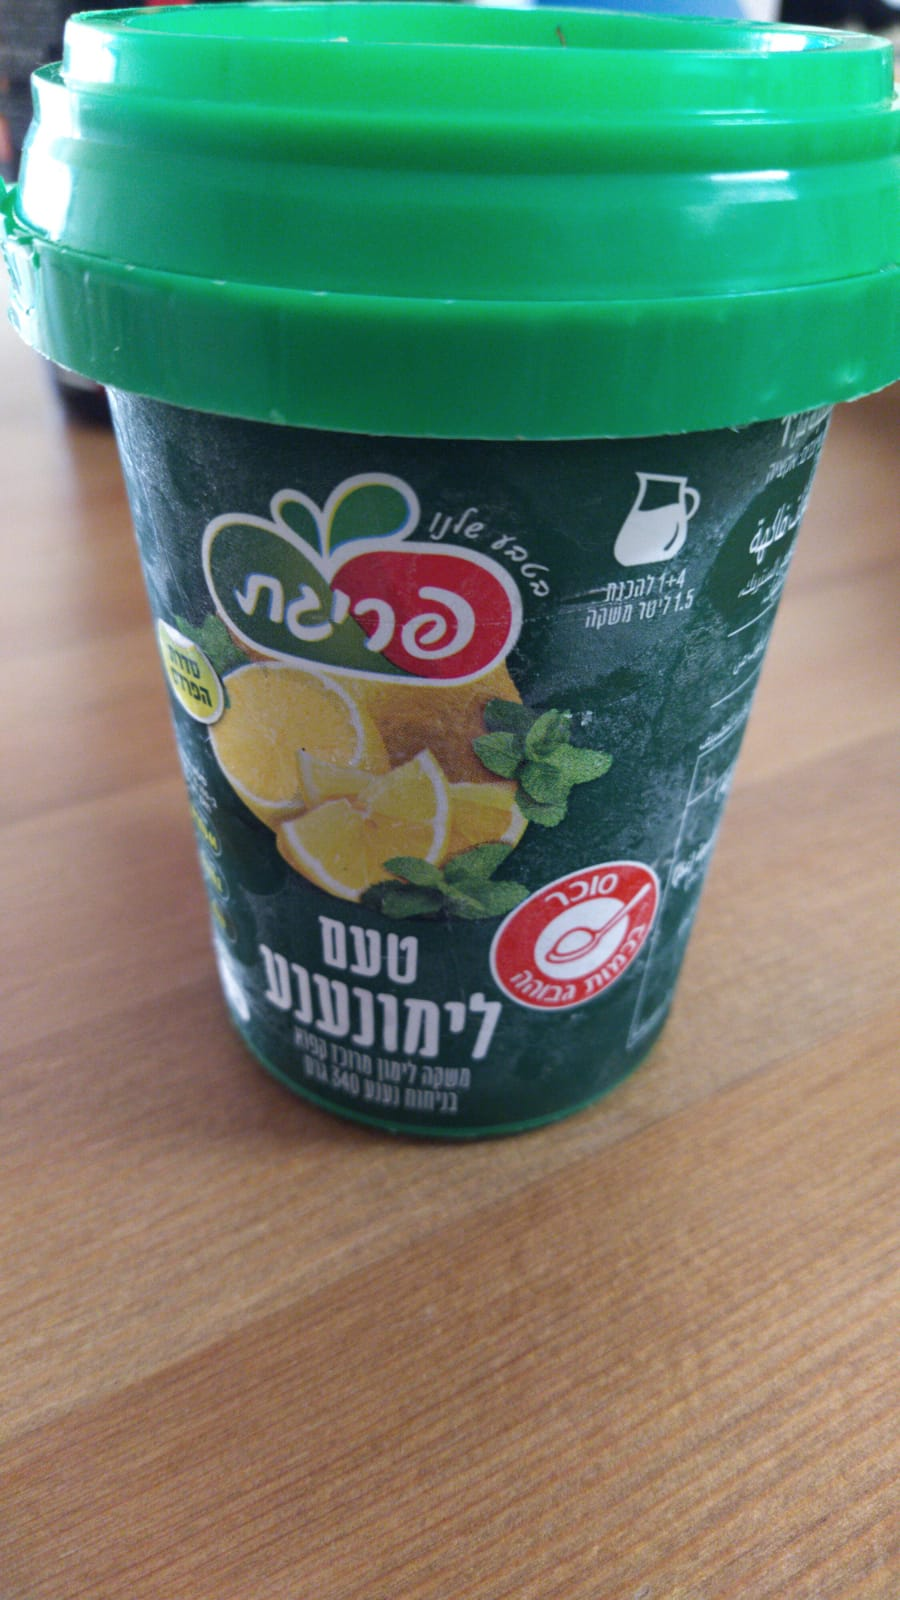sugar: (486, 860, 662, 1016)
